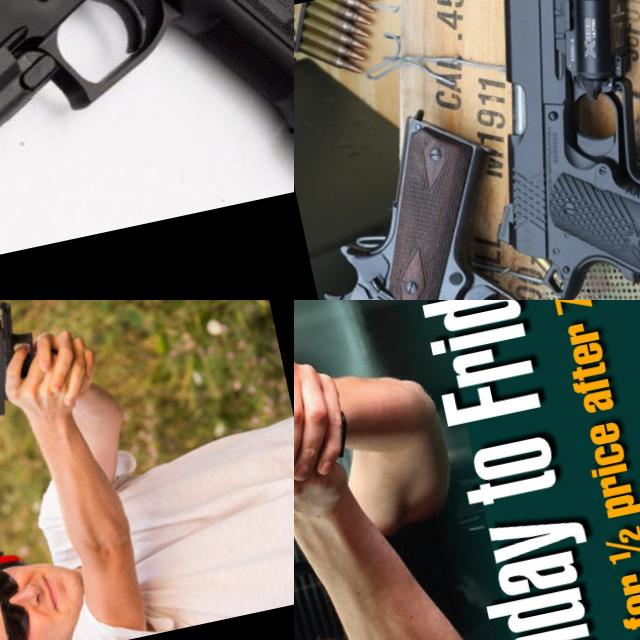handgun: (0, 0, 294, 272), (294, 77, 638, 300), (436, 0, 640, 300), (294, 300, 415, 549), (0, 300, 64, 421)
